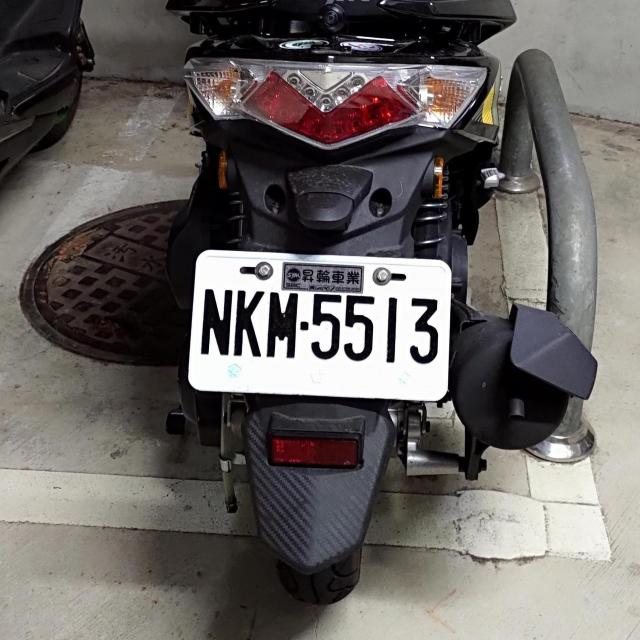W: (188, 250, 448, 396)
